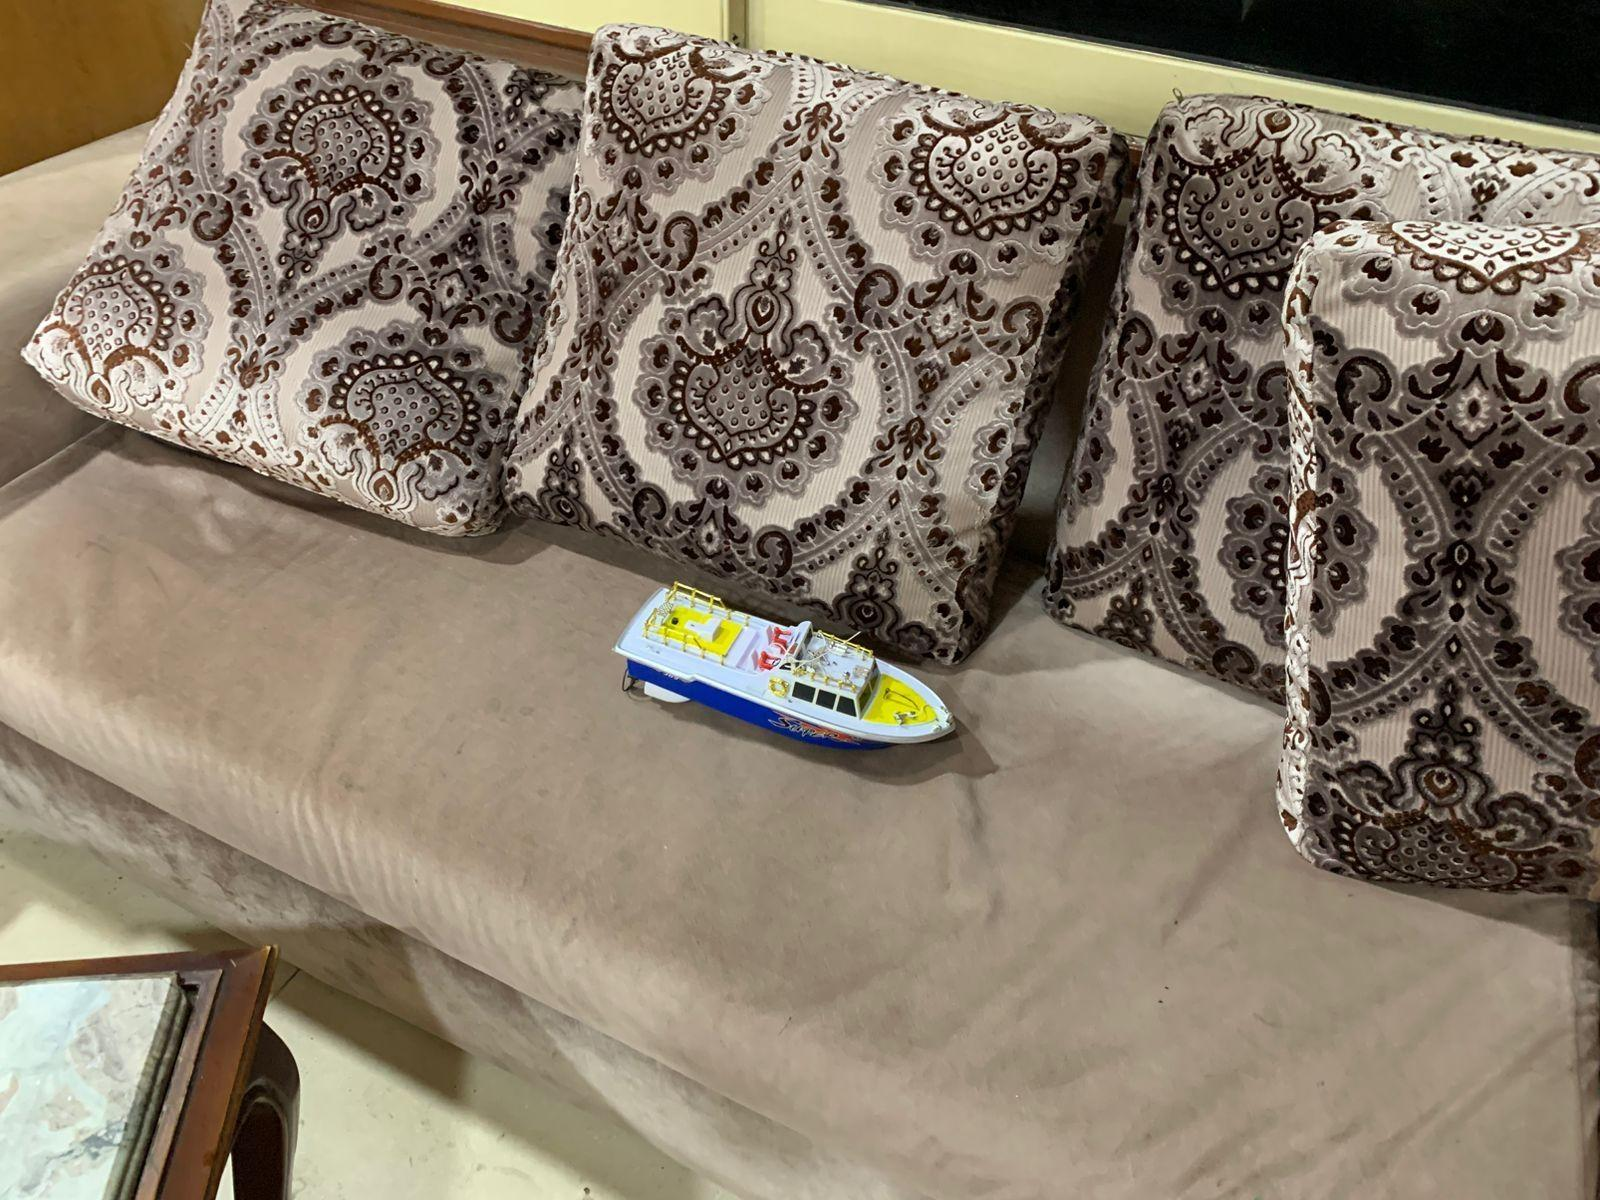Boat: (614, 572, 969, 788)
